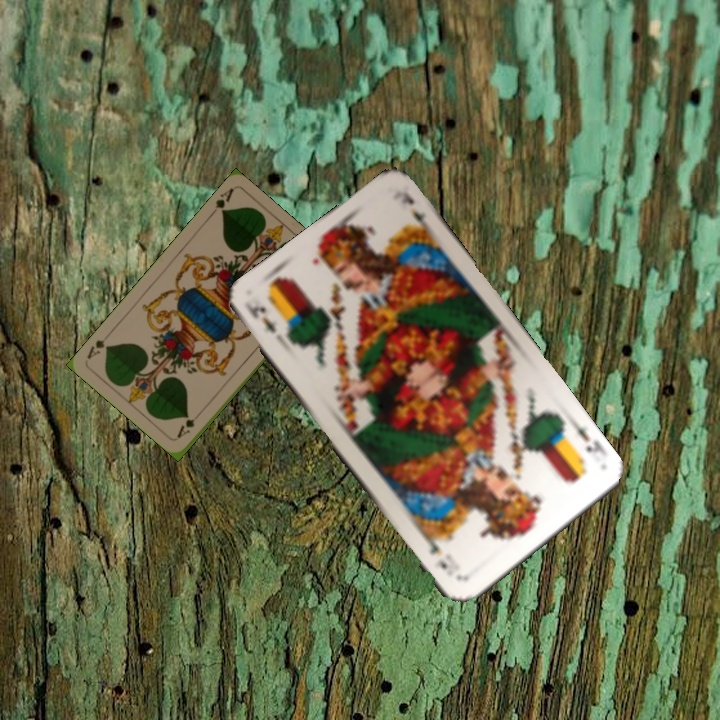EK: (569, 419, 608, 459), (242, 301, 279, 336)
GA: (206, 184, 236, 219), (173, 407, 204, 440)
